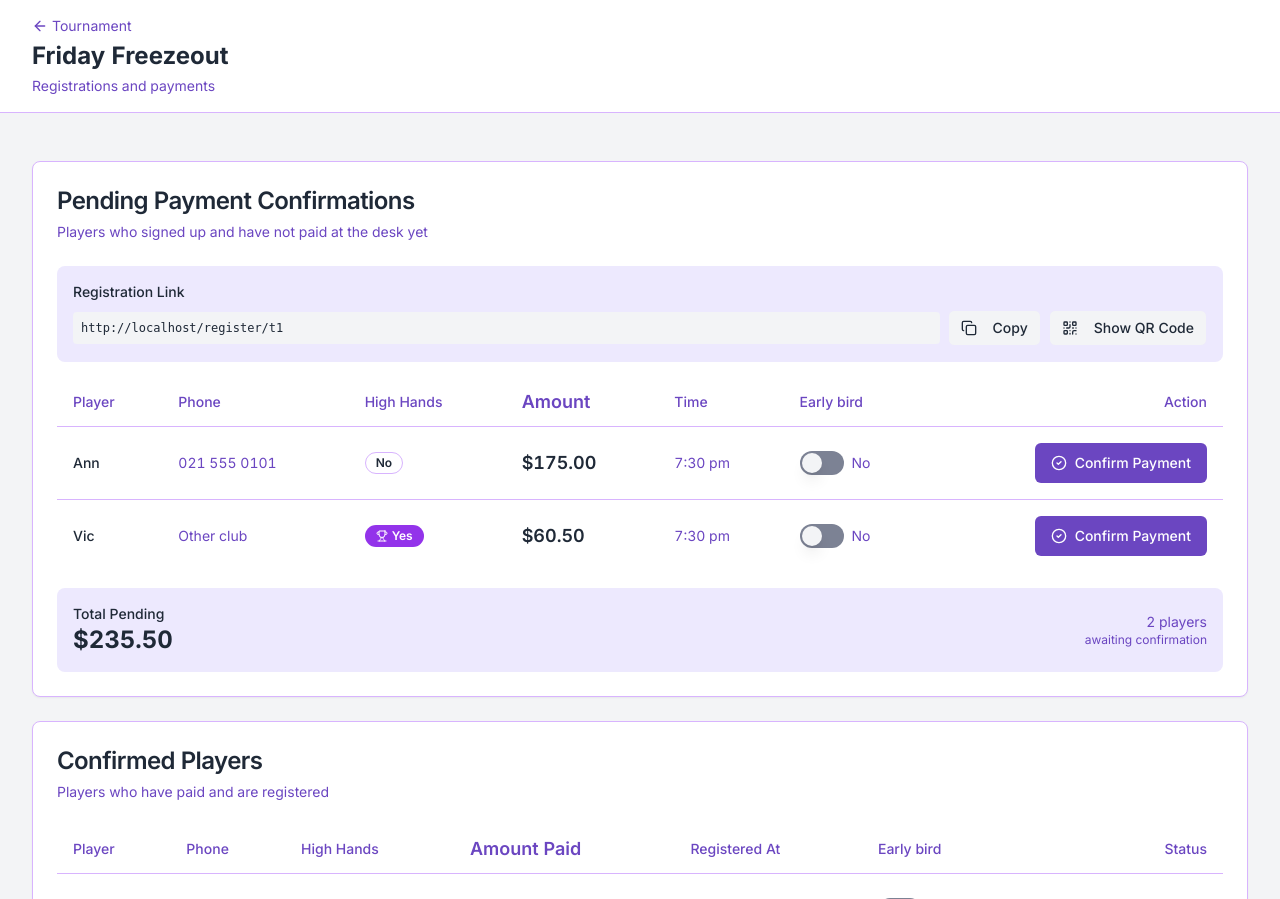
AdminRegistrationsPage › confirms a payment, then shows the lists as the server has them
The image size is (1280, 899).
Click the button with test id "confirm-payment-r1" at (1121, 462), box [1035, 442, 1207, 482]
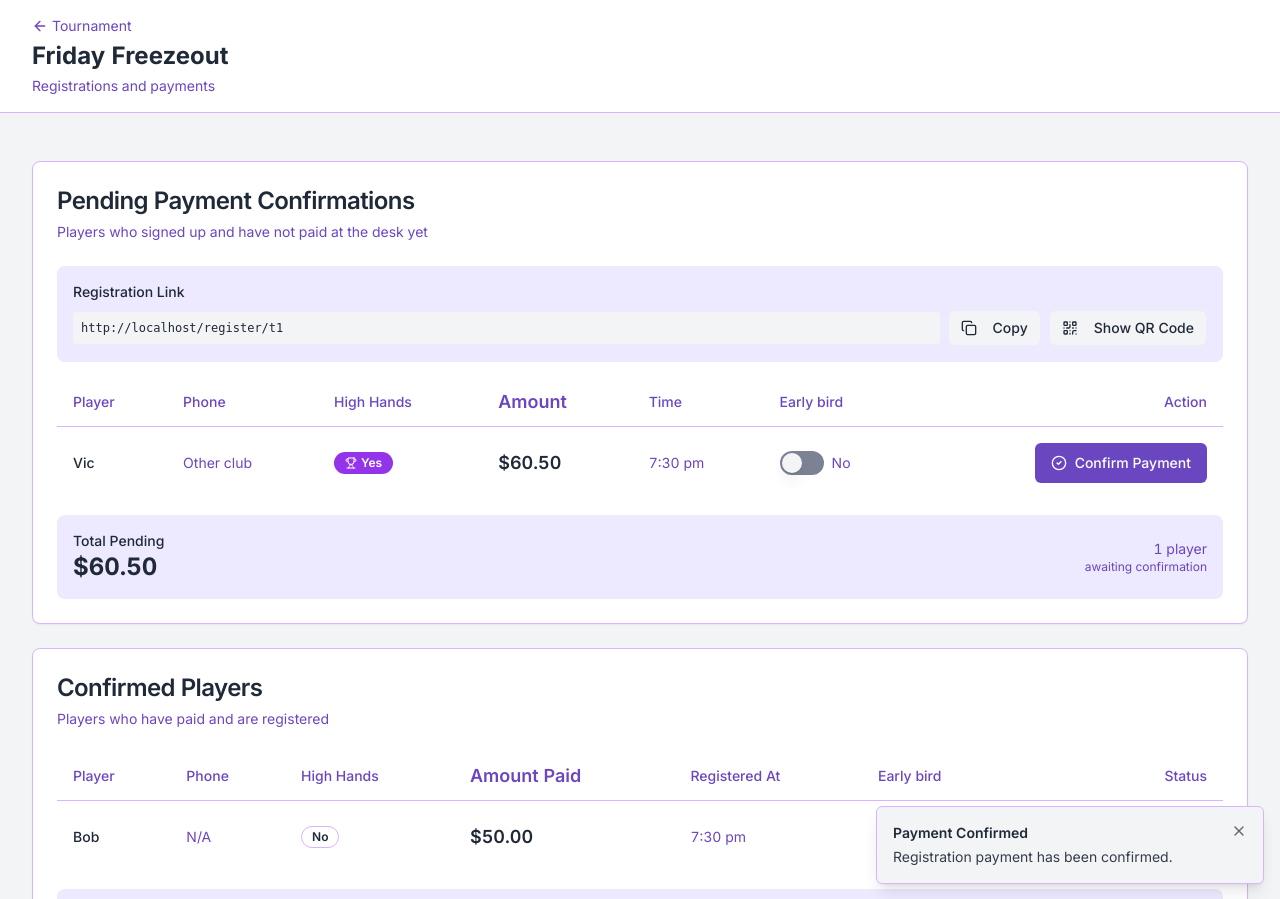
Check: the text "Payment Confirmed" is shown, box [893, 824, 1028, 841]
Check: the row with test id "registration-r1" is gone
